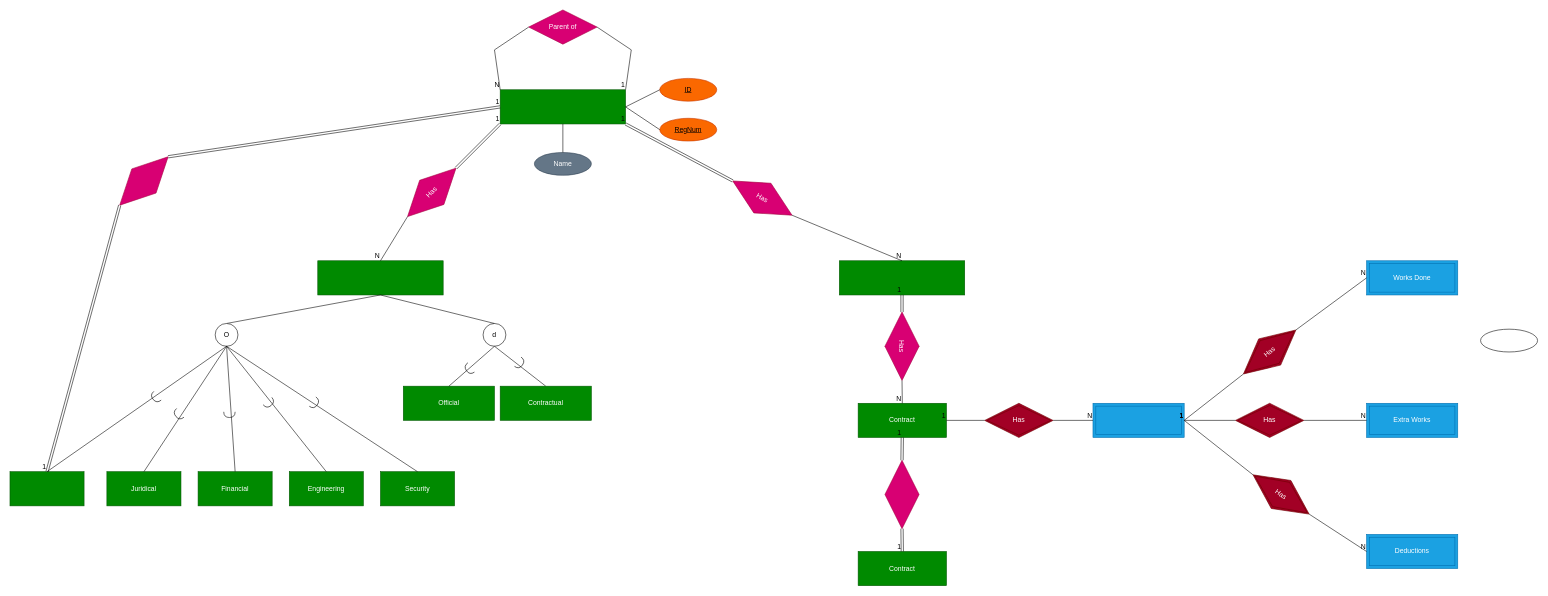
The diagram is 1548 pixels wide and 596 high, and some of its shapes have lost their labels. The shapes that lost their labels are listed below. From the top down, each one's centre as x and y in pixels, then its label:
At (x=563, y=106): "Company".
At (x=380, y=277): "Employee".
At (x=902, y=277): "Project".
At (x=1509, y=340): "Attribute".
At (x=1138, y=420): "Status Statement".
At (x=46, y=488): "Manager".
At (x=901, y=494): "With".
